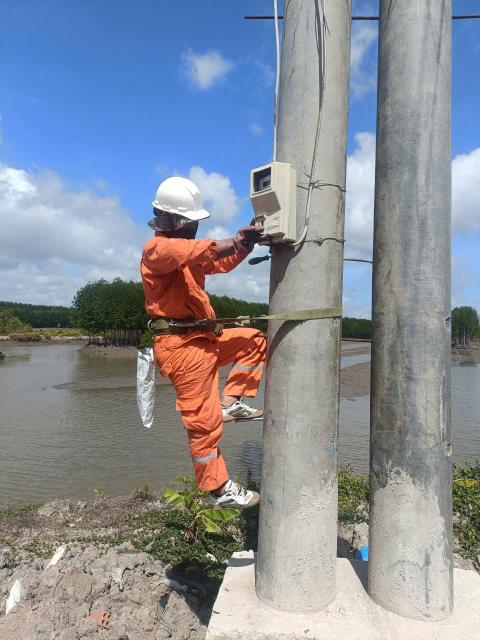gloves: (196, 215, 269, 262)
harness: (148, 300, 252, 349)
helmet: (146, 179, 219, 228)
shoes: (205, 476, 260, 516), (211, 395, 270, 427)
